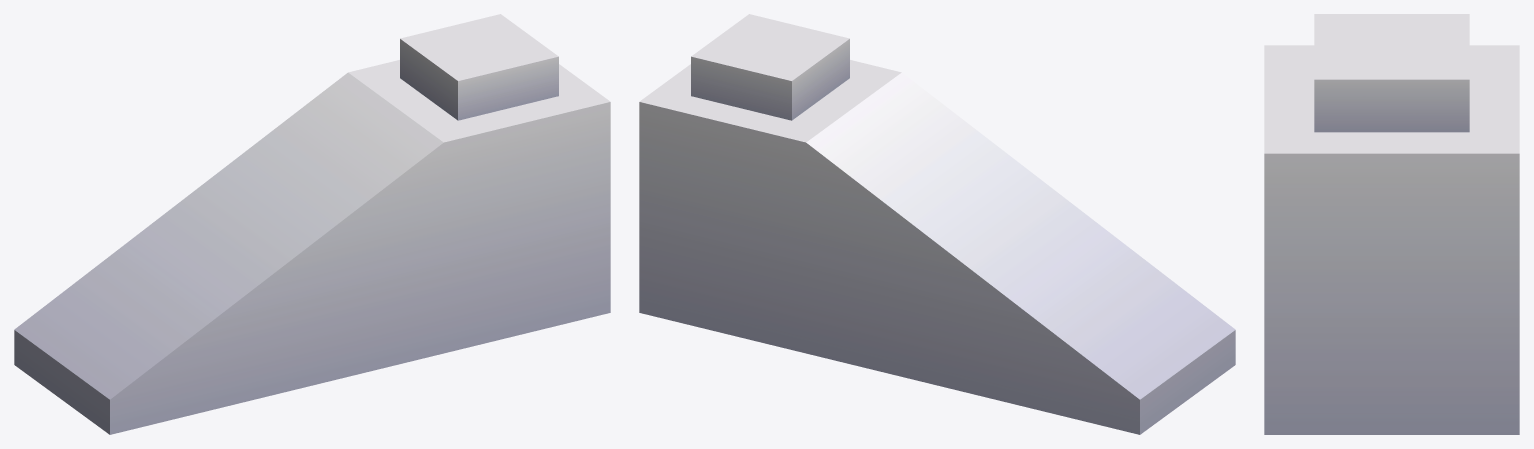
Rendered from kenney-brick-square-lq-brick-slope-3-x-1.glb.
The picture shows the model from 3 angles, left to right: view 1: azimuth 30°, elevation 25°; view 2: azimuth 150°, elevation 25°; view 3: azimuth 270°, elevation 25°; orthographic projection. The views are drawn at different scales.
Visible parts, largest first — view 1: square-lq-brick-slope-3x1; view 2: square-lq-brick-slope-3x1; view 3: square-lq-brick-slope-3x1.
Boxes of the visible parts, bbox=[...] form: square-lq-brick-slope-3x1: bbox=[14, 14, 610, 434]; square-lq-brick-slope-3x1: bbox=[639, 14, 1235, 434]; square-lq-brick-slope-3x1: bbox=[1264, 14, 1519, 434].
Size of the model in its own units: 0.2385 by 0.114 by 0.079.
1 material, 1 textured.
